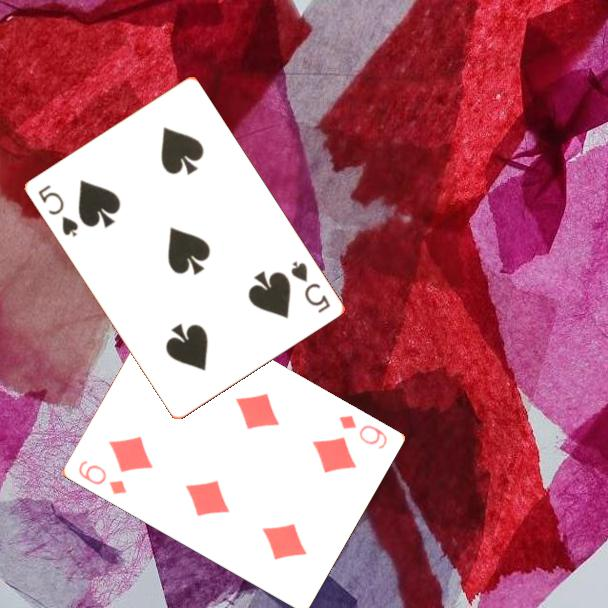d06: (74, 457, 129, 498), (335, 411, 390, 452)
s05: (34, 181, 81, 240), (287, 257, 333, 316)
